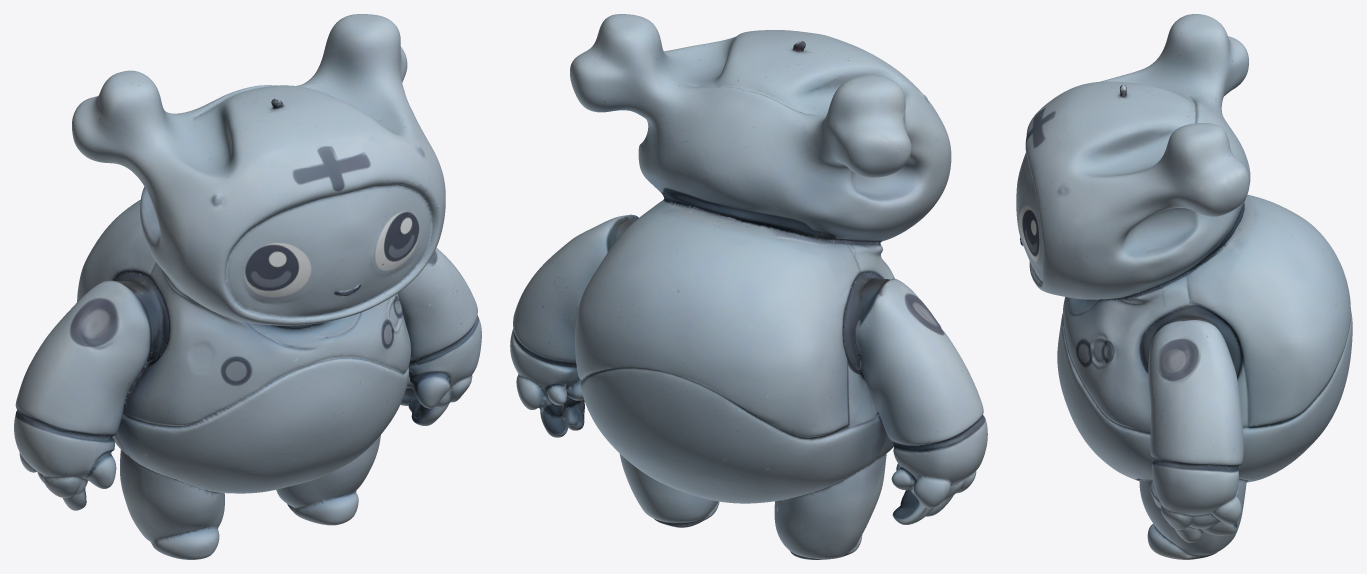
The model's file is bot.glb.
3 views of the same model, side by side, from view 1: azimuth 30°, elevation 25°; view 2: azimuth 150°, elevation 25°; view 3: azimuth 270°, elevation 25° (orthographic). The views are drawn at different scales.
Size of the model in its own units: 1.99 by 2 by 1.37.
Materials: 1 (1 with a texture image).
